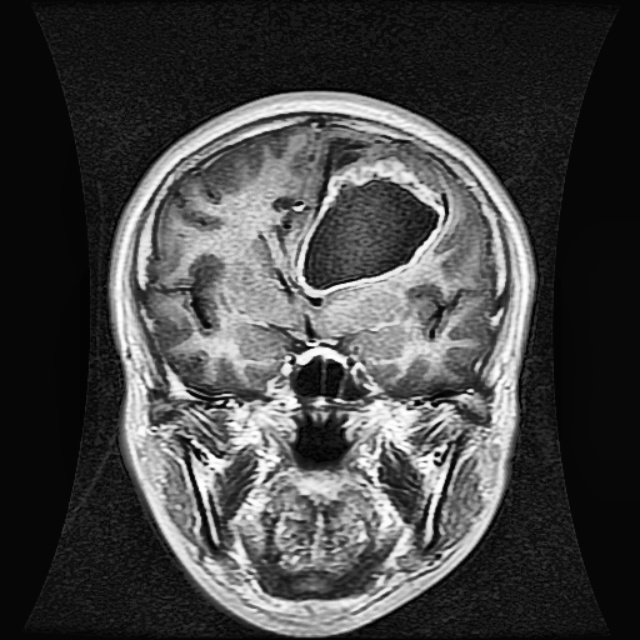Meningioma: (294, 138, 449, 297)
